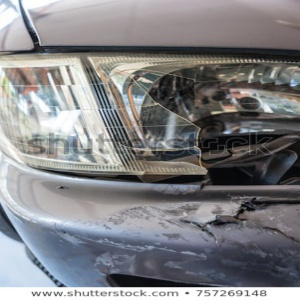bumper: (49, 197, 297, 285)
